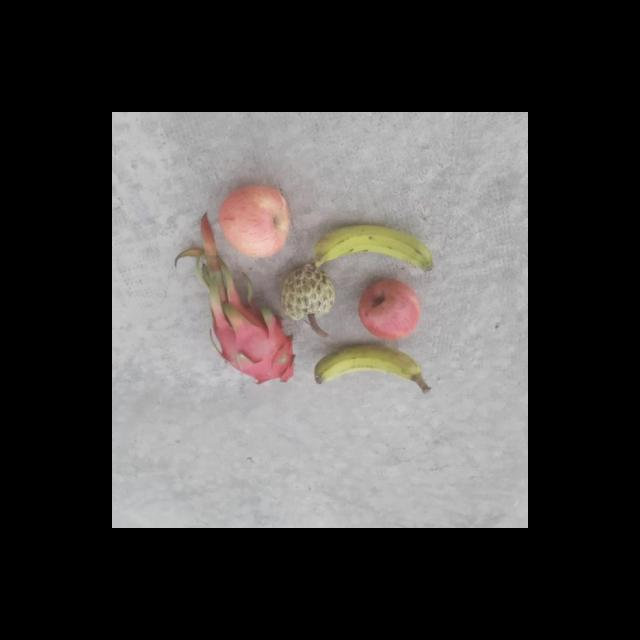Sakya fruit: (276, 263, 337, 328)
apple: (218, 181, 294, 258), (357, 278, 421, 344)
banana: (311, 224, 433, 273), (306, 344, 424, 386)
pitaya: (200, 304, 298, 392)
